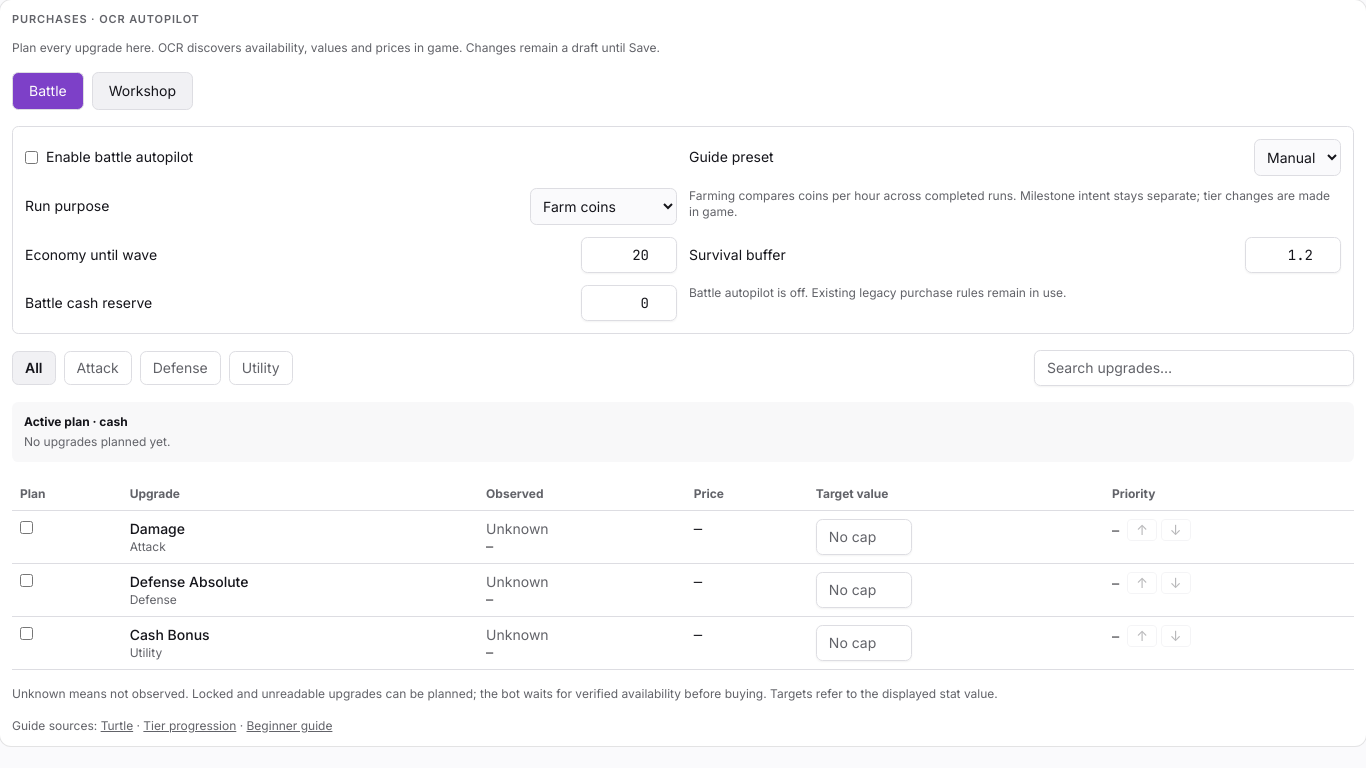
Scenario: AutopilotEditor › filters the catalog by category and search
The image size is (1366, 768).
Click the button "Defense". click: {"x": 180, "y": 368}
box: [140,351,221,385]
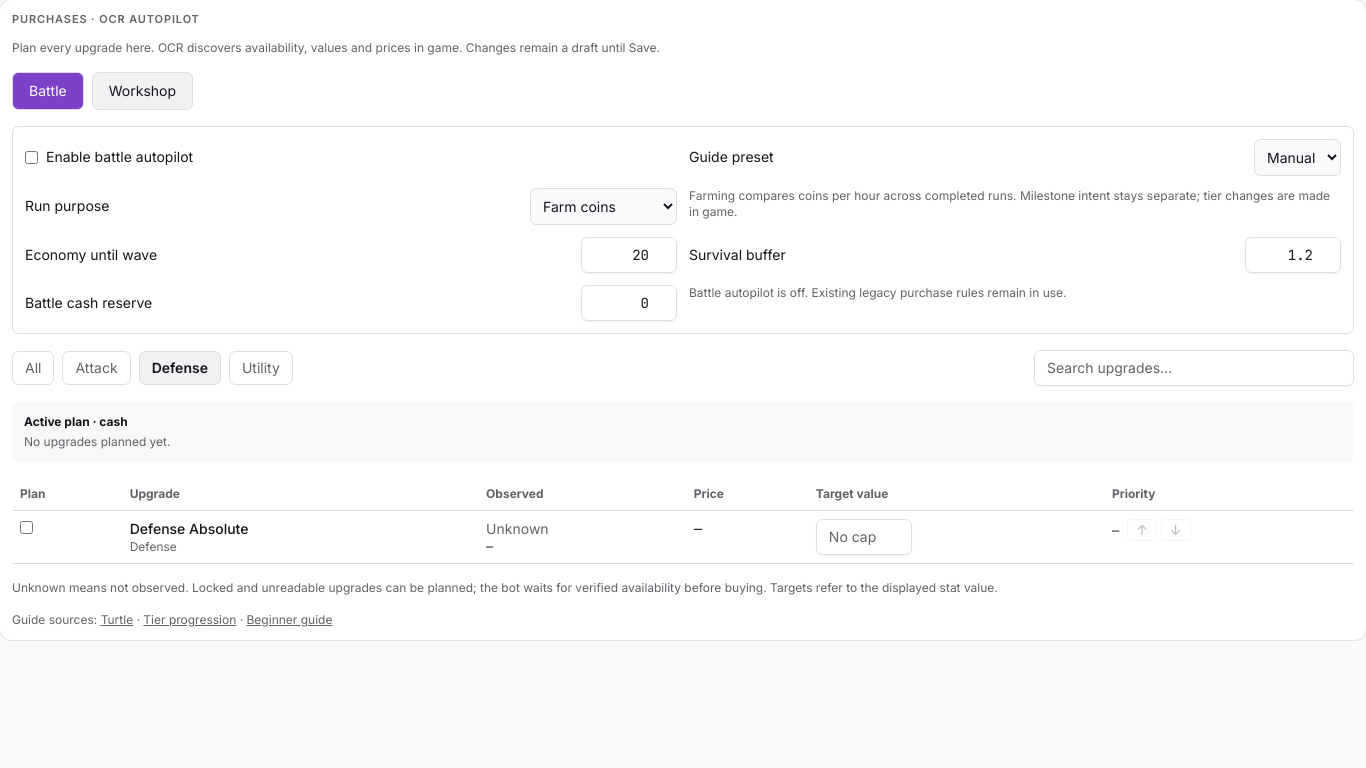
Expected: the row with test id "upgrade-defense_absolute" is shown, [12,510,1354,563]
Now the row with test id "upgrade-damage" is gone
Type "missing" into the search field. click: {"x": 1194, "y": 368}
box: [1034,350,1354,386]
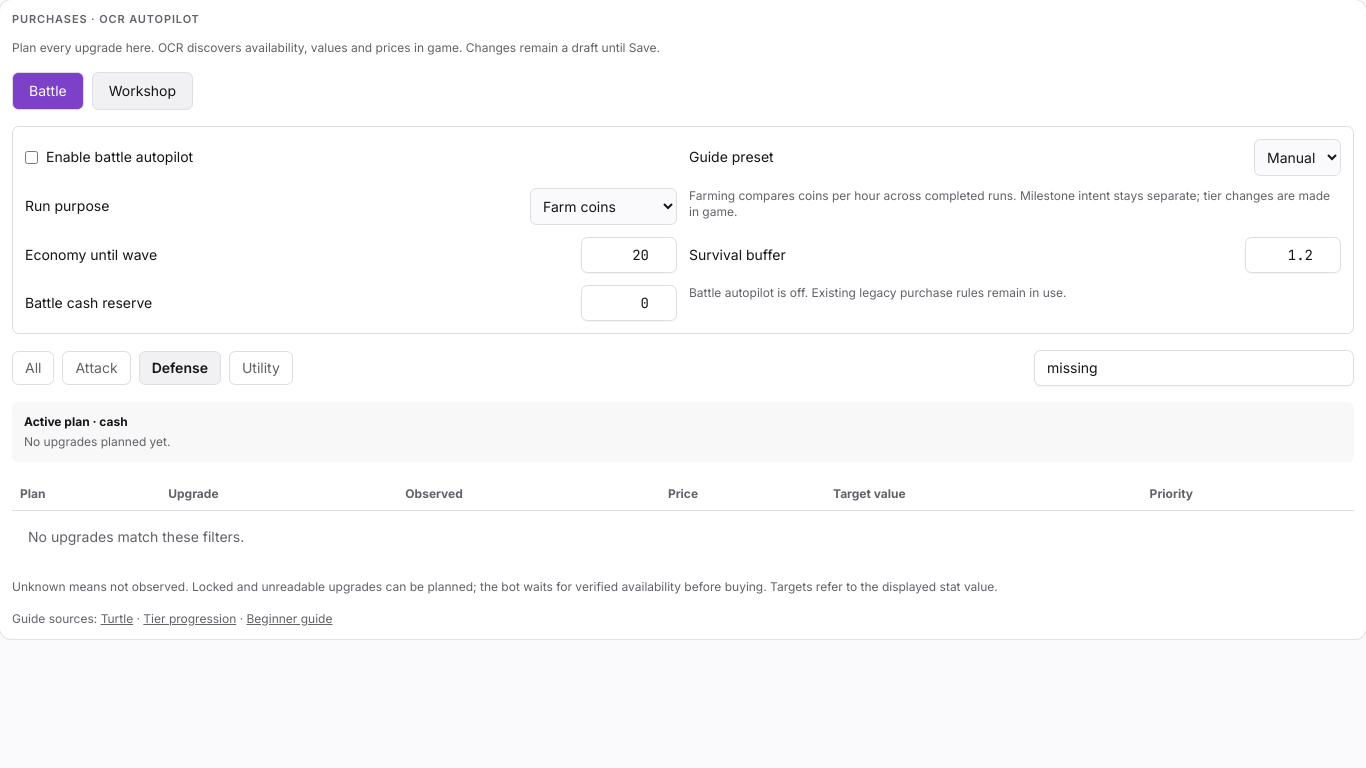
Now the text "No upgrades match these filters." is shown, box [28,528,244,545]
